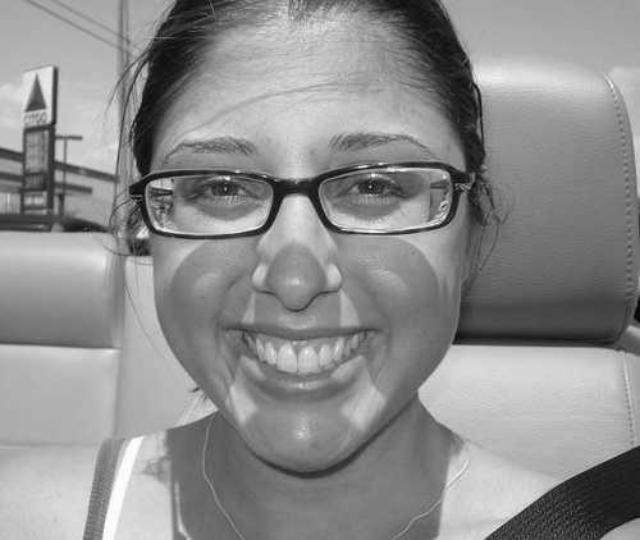SafeDriving: (326, 161, 426, 220), (176, 161, 272, 218)
Seatbelt: (476, 438, 640, 540)
